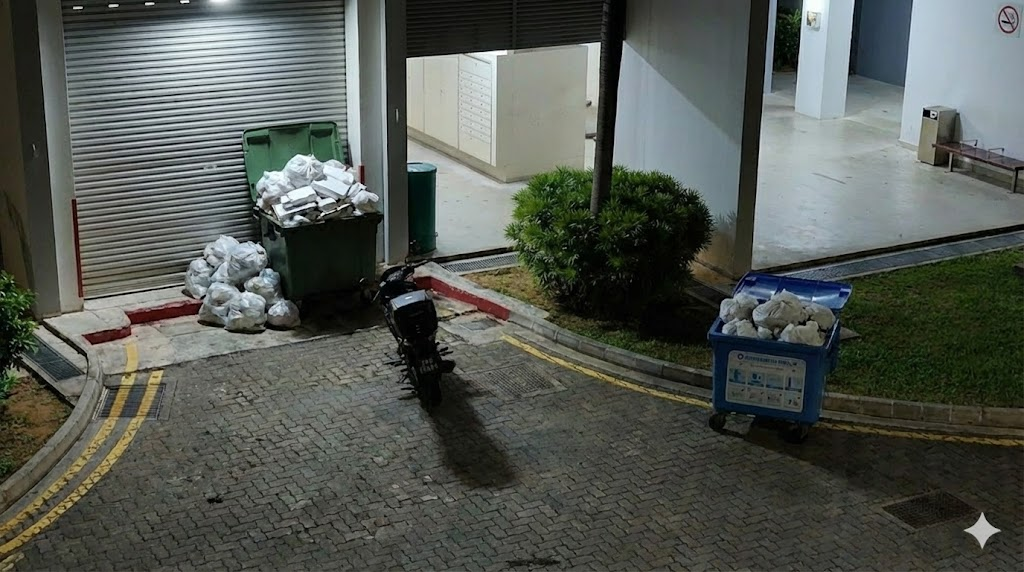bin_empty: (408, 162, 436, 255), (918, 105, 957, 165)
bin_full: (243, 122, 382, 303), (708, 272, 851, 442)
normal_waste: (213, 243, 266, 287), (200, 283, 239, 325), (244, 268, 283, 309), (224, 292, 266, 330), (186, 258, 215, 298), (204, 235, 238, 269), (266, 299, 300, 328)
vehicle: (372, 261, 454, 403)
